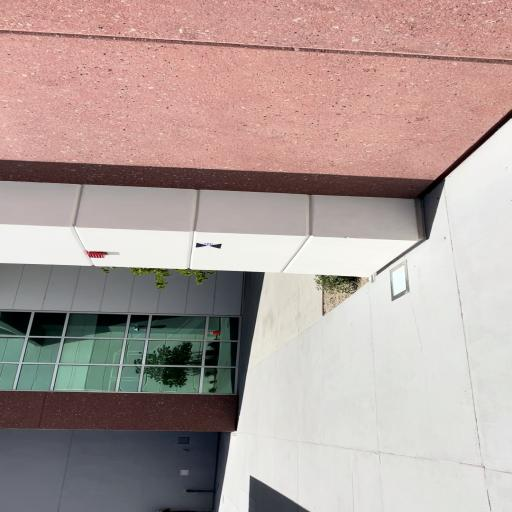target6: (195, 242, 223, 250)
